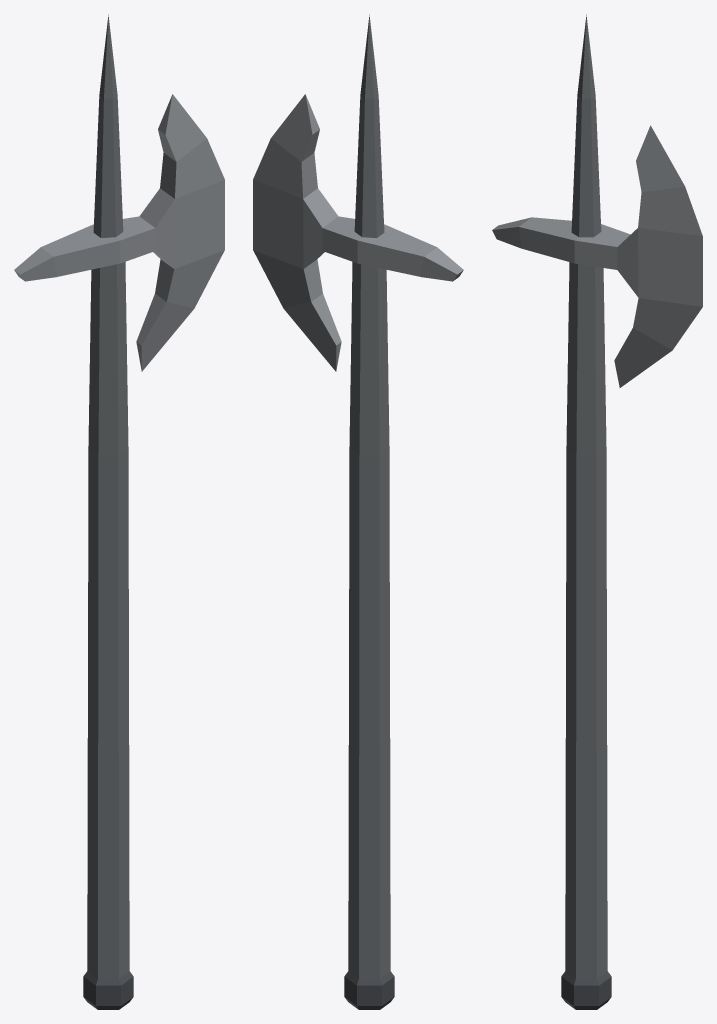
File: Poleaxe.004.fbx
3 renders of one model, left to right at view 1: azimuth 30°, elevation 25°; view 2: azimuth 150°, elevation 25°; view 3: azimuth 330°, elevation 25°, orthographic.
Parts seen in each view (by area): view 1: Poleaxe.004; view 2: Poleaxe.004; view 3: Poleaxe.004.
Part boxes in pixels (x1=…): Poleaxe.004: x1=14, y1=14, x2=224, y2=1009; Poleaxe.004: x1=253, y1=14, x2=463, y2=1009; Poleaxe.004: x1=492, y1=14, x2=702, y2=1009.
Size of the model in its own units: 19.16 by 87.1 by 4.02.
